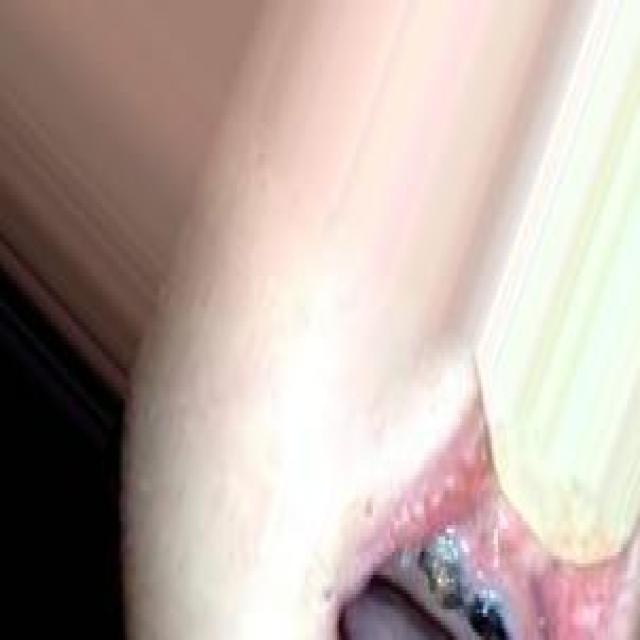caries: (412, 526, 466, 613), (467, 577, 514, 640)
